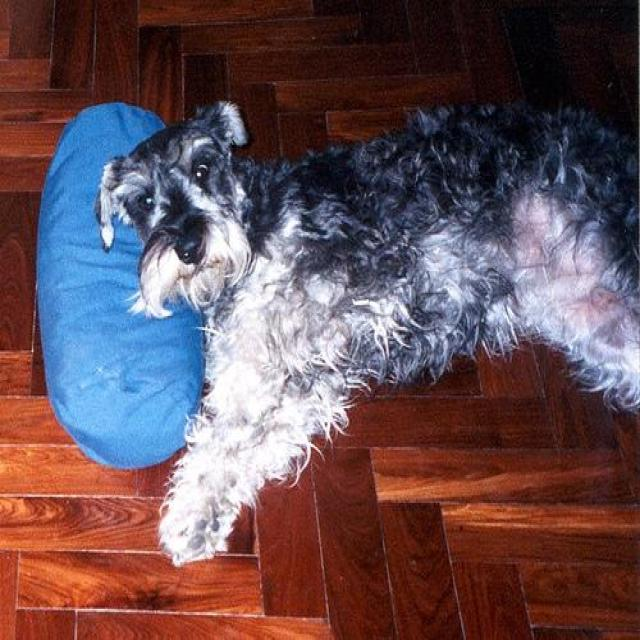standard_schnauzer: (92, 93, 638, 570)
